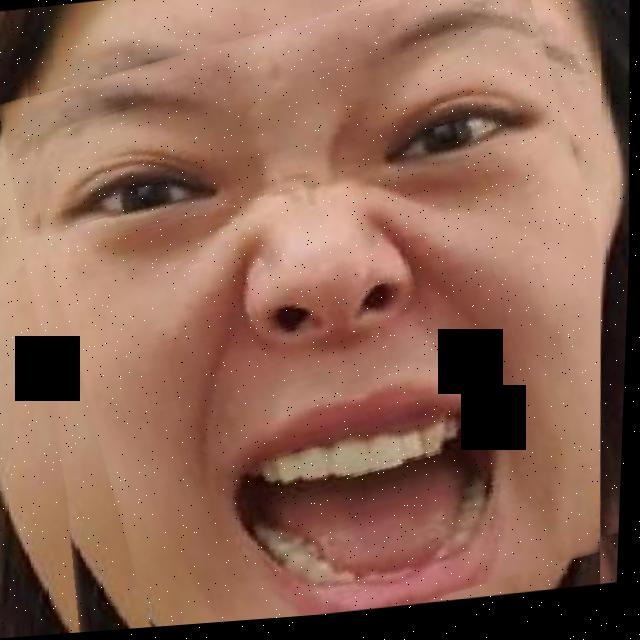anger: (4, 0, 623, 639)
